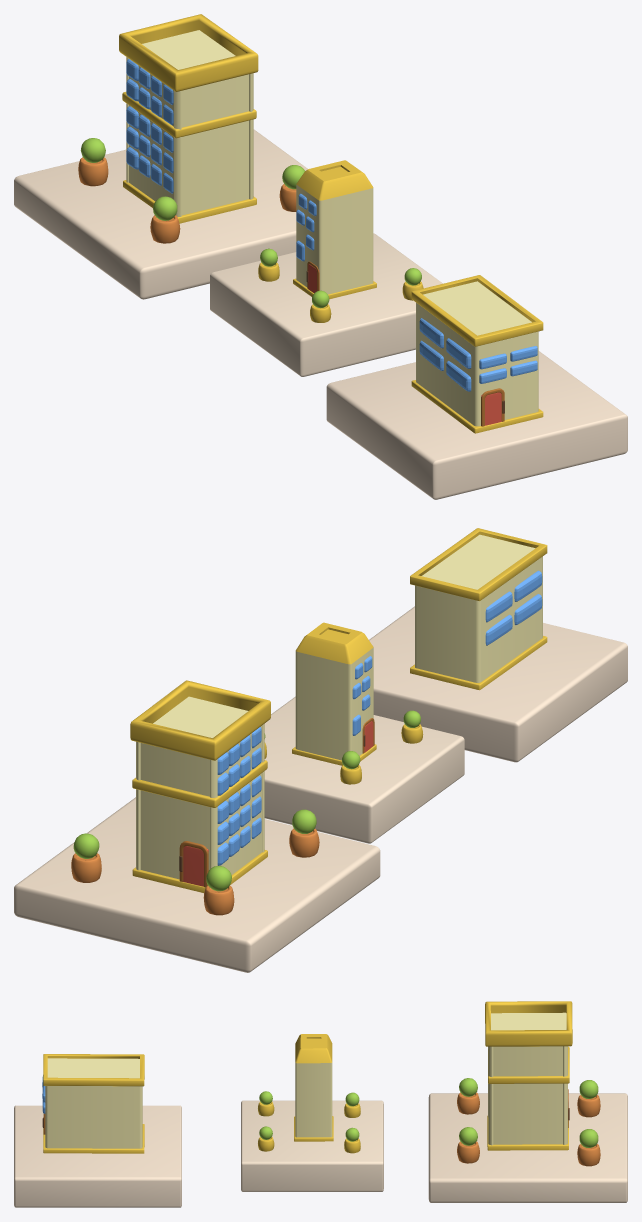
File: residential.fbx
The picture shows the model from 3 angles, top to bottom: view 1: azimuth 30°, elevation 25°; view 2: azimuth 150°, elevation 25°; view 3: azimuth 270°, elevation 25°; orthographic projection. The views are drawn at different scales.
Visible parts, largest first — view 1: Cube.042, Cube.010, Cube.041, I.006, I.013, I.012, IceCreaShop.015, IceCreaShop.046, DOOR.022, I.011, DOOR.094, I.004 (+9 smaller); view 2: Cube.010, Cube.042, Cube.041, I.013, I.006, I.012, IceCreaShop.015, IceCreaShop.046, DOOR.022, I.011, DOOR.094, I.004 (+10 smaller); view 3: Cube.010, Cube.042, Cube.041, I.013, I.006, I.012, IceCreaShop.015, IceCreaShop.046, I.011, I.004, IceCreaShop.018, IceCreaShop.023 (+9 smaller).
Part boxes in pixels (box(x1,y1,x2,y2)): Cube.042: box(326, 351, 627, 499); Cube.010: box(14, 129, 307, 299); Cube.041: box(210, 233, 442, 376); I.006: box(129, 30, 248, 215); I.013: box(416, 281, 538, 426); I.012: box(296, 185, 373, 294); IceCreaShop.015: box(119, 14, 258, 91); IceCreaShop.046: box(411, 275, 543, 346); DOOR.022: box(126, 106, 173, 193); I.011: box(296, 160, 373, 200); DOOR.094: box(419, 318, 471, 391); I.004: box(126, 57, 253, 216); Cube.010: box(14, 797, 380, 972); Cube.042: box(369, 606, 627, 762); Cube.041: box(264, 696, 464, 843); I.013: box(415, 534, 542, 682); I.006: box(140, 696, 262, 879); I.012: box(295, 647, 373, 760); IceCreaShop.015: box(130, 680, 270, 760); IceCreaShop.046: box(410, 528, 547, 601); DOOR.022: box(217, 775, 261, 865); I.011: box(295, 622, 373, 664); DOOR.094: box(485, 570, 542, 645); I.004: box(136, 724, 264, 870); Cube.010: box(428, 1093, 627, 1202); Cube.042: box(14, 1105, 181, 1207); Cube.041: box(241, 1100, 383, 1191); I.013: box(45, 1058, 142, 1148); I.006: box(491, 1012, 566, 1144); I.012: box(295, 1063, 332, 1137); IceCreaShop.015: box(485, 1001, 572, 1046); IceCreaShop.046: box(43, 1054, 144, 1086); I.011: box(295, 1034, 332, 1063); I.004: box(488, 1046, 567, 1145); IceCreaShop.018: box(457, 1092, 600, 1117); IceCreaShop.023: box(457, 1141, 600, 1166).
Size of the model in its own units: 318 by 255 by 940.
